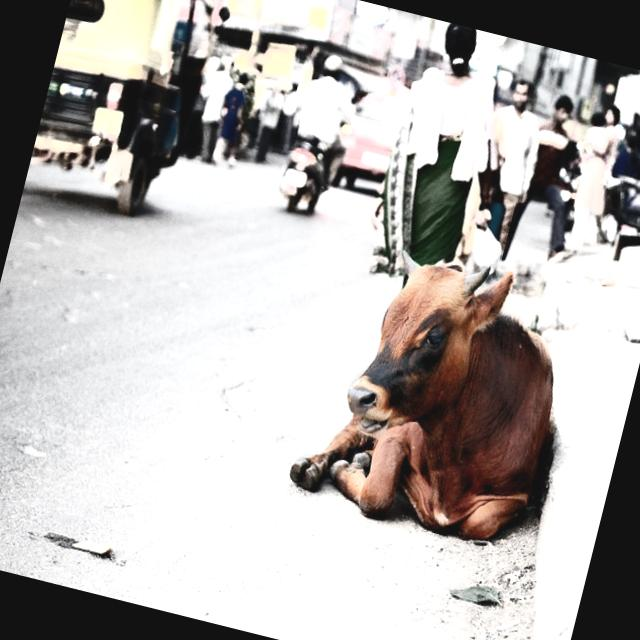Vehicle: (326, 83, 408, 198), (540, 160, 640, 234), (272, 132, 336, 218)
